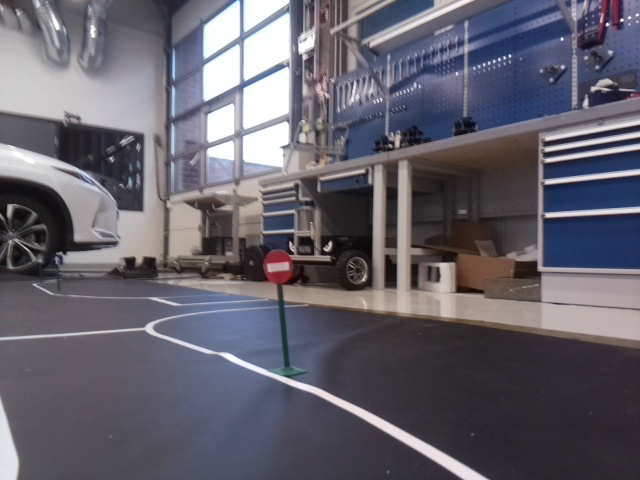NoEntry: (261, 249, 292, 281)
